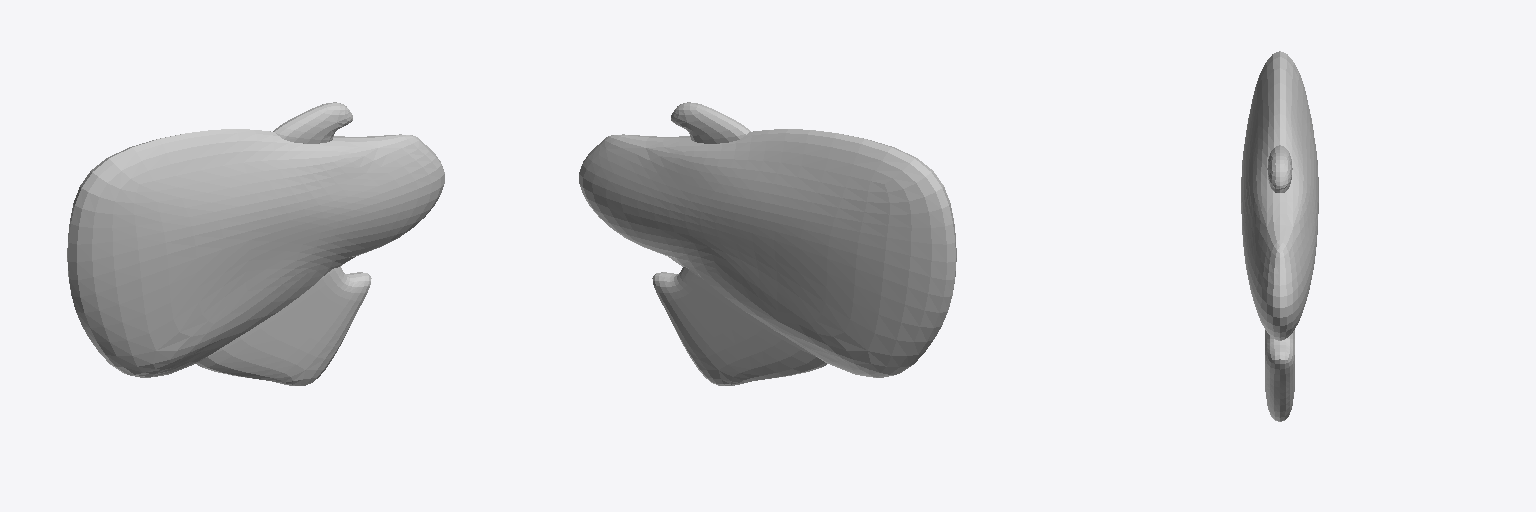
File: salmonBottom.obj
The picture shows the model from 3 angles: view 1: azimuth 30°, elevation 25°; view 2: azimuth 150°, elevation 25°; view 3: azimuth 270°, elevation 25°; orthographic projection.
Parts seen in each view (by area): view 1: Cube.004; view 2: Cube.004; view 3: Cube.004.
Boxes of the visible parts, x1=… form: Cube.004: x1=67, y1=102, x2=444, y2=385; Cube.004: x1=579, y1=102, x2=956, y2=385; Cube.004: x1=1241, y1=51, x2=1318, y2=421.
Size of the model in its own units: 1.42 by 1.02 by 0.2544.